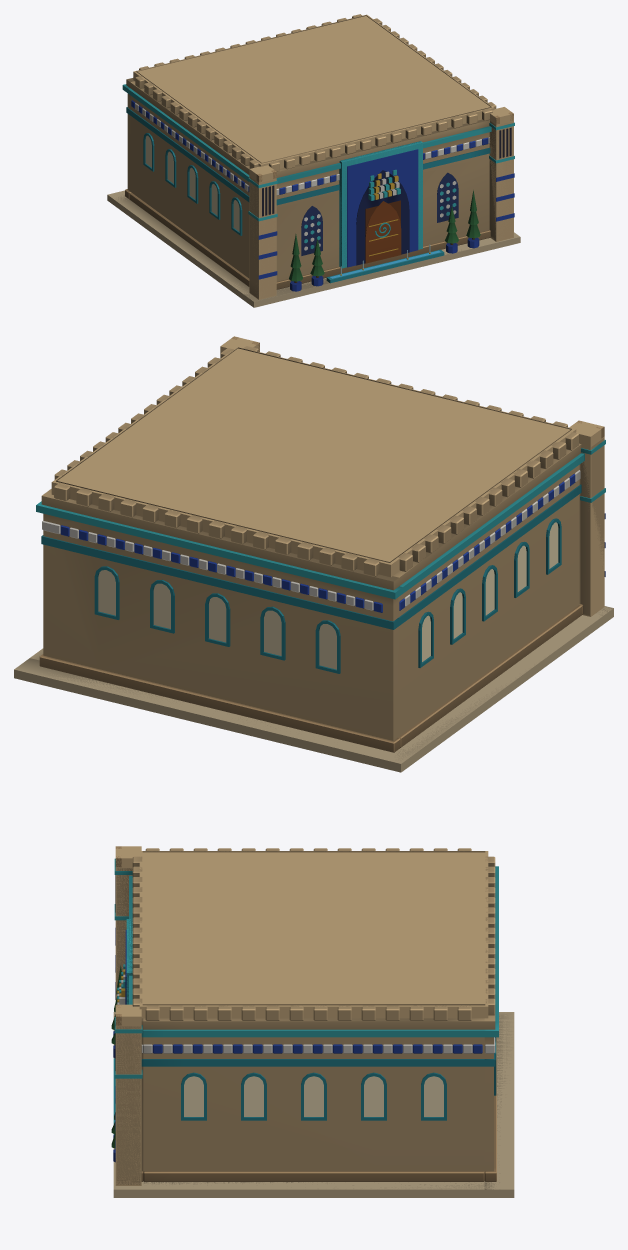
Rendered from TornadoKingFloor.fbx.
3 renders of one model, top to bottom at view 1: azimuth 30°, elevation 25°; view 2: azimuth 150°, elevation 25°; view 3: azimuth 270°, elevation 25°, orthographic. The views are drawn at different scales.
Visible parts, largest first — view 1: TK_S_All, TK_F_Rings, TK_F_Smooth, TK_F_Quiet, TK_F_Props, TK_F_Glass; view 2: TK_S_All, TK_F_Rings, TK_F_Smooth, TK_F_Glass, TK_F_Quiet; view 3: TK_S_All, TK_F_Rings, TK_F_Smooth, TK_F_Glass, TK_F_Quiet.
Boxes of the visible parts, x1,y1,x2,y2 form: TK_S_All: (107,14,520,307); TK_F_Rings: (123,15,513,298); TK_F_Smooth: (122,14,514,289); TK_F_Quiet: (113,189,489,301); TK_F_Props: (289,190,480,291); TK_F_Glass: (145,135,440,278); TK_S_All: (14,336,613,772); TK_F_Rings: (36,347,603,740); TK_F_Smooth: (36,336,605,752); TK_F_Glass: (98,522,558,669); TK_F_Quiet: (14,604,613,763); TK_S_All: (113,846,514,1197); TK_F_Rings: (113,851,498,1184); TK_F_Smooth: (113,846,498,1181); TK_F_Glass: (184,1076,443,1116); TK_F_Quiet: (114,1012,513,1189).
Size of the model in its own units: 60 by 20 by 60.
